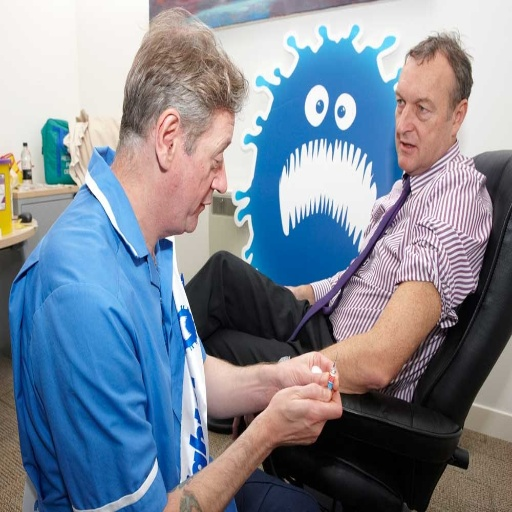hand: (262, 384, 343, 444), (231, 361, 274, 437), (278, 350, 340, 391), (284, 284, 300, 298)
